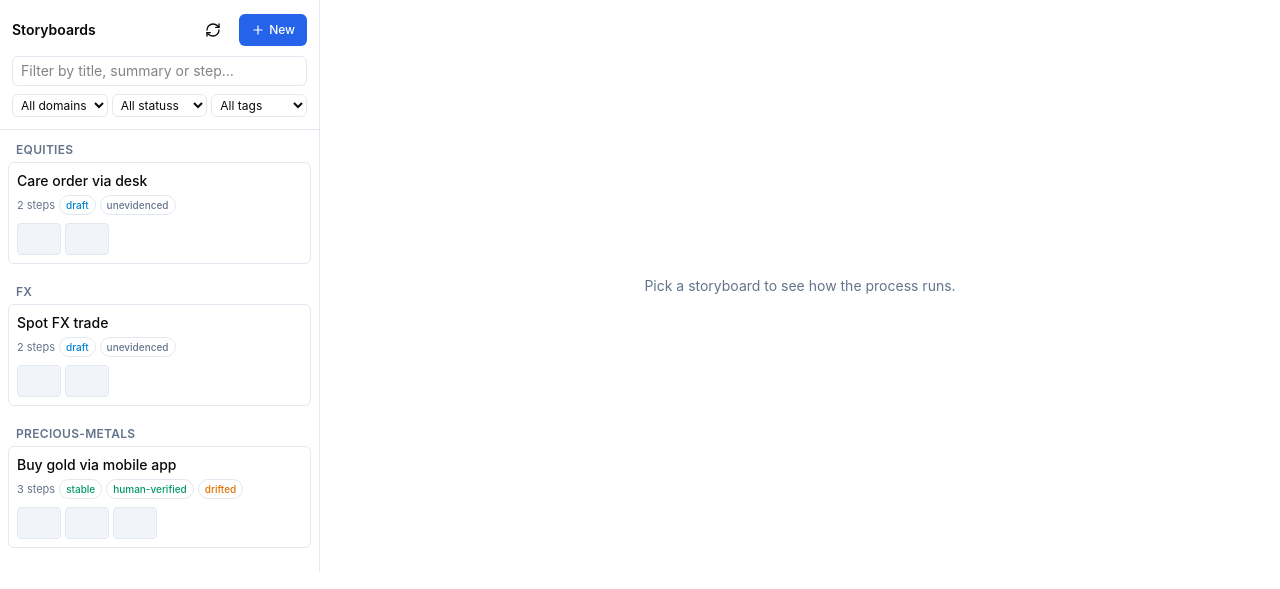
Test: Storyboards browser › opens a storyboard in the detail pane when a card is clicked
This screenshot has width=1280, height=589.
Click the button "Buy gold via mobile app" at point(160, 497), box [8,446,311,548]
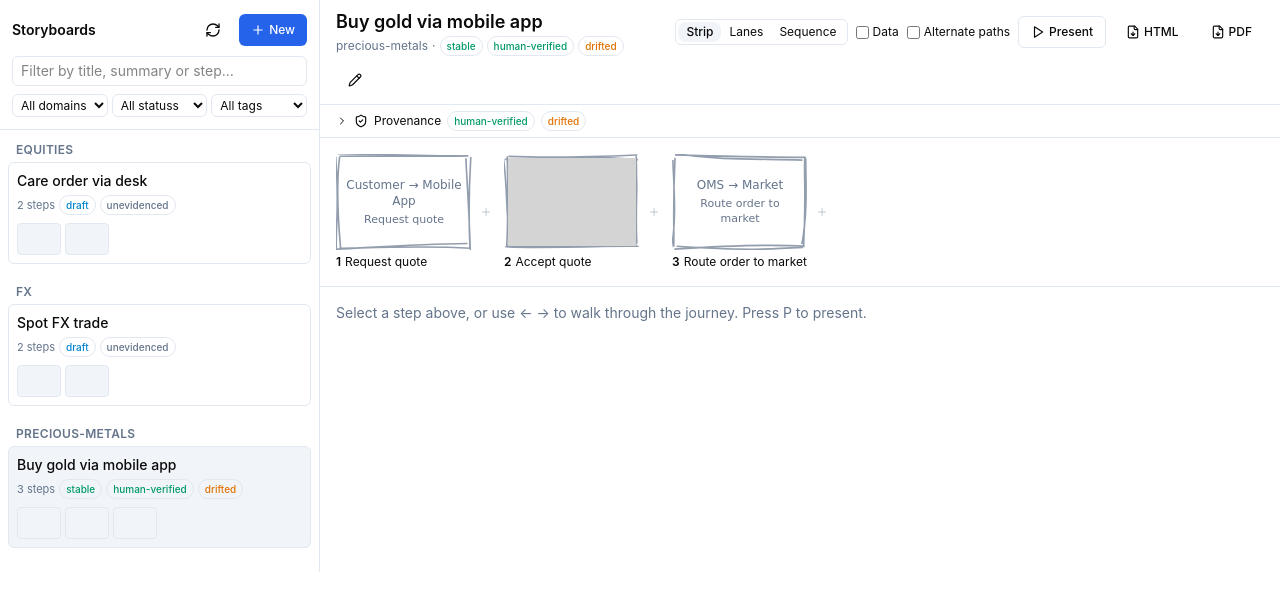
Expected: the heading "Buy gold via mobile app" is shown, [336,11,543,32]
